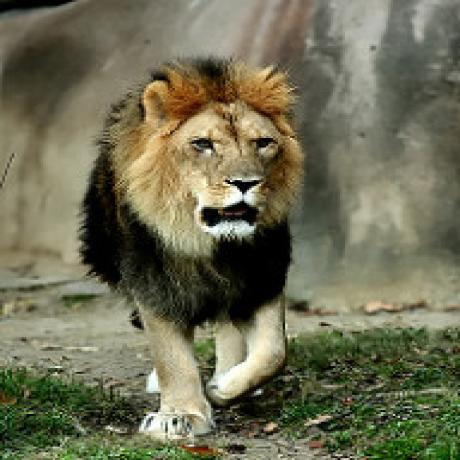Lion: (80, 51, 309, 445)
